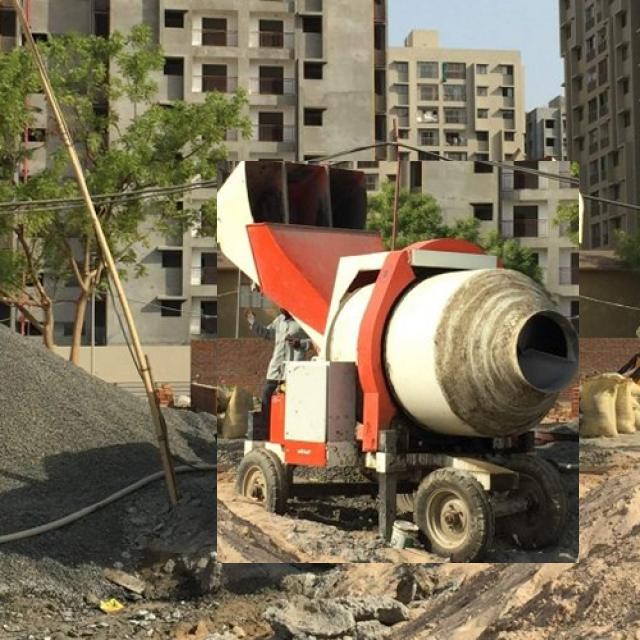truck: (218, 161, 579, 563)
